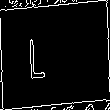L_N: (46, 29, 64, 81)
